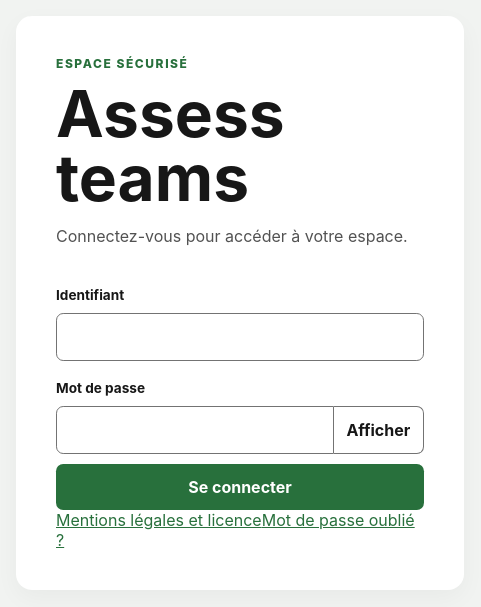
shows and hides the entered password without changing it
Type "secret-value" into the password field labelled "Mot de passe" at (195, 430), box [56, 406, 334, 454]
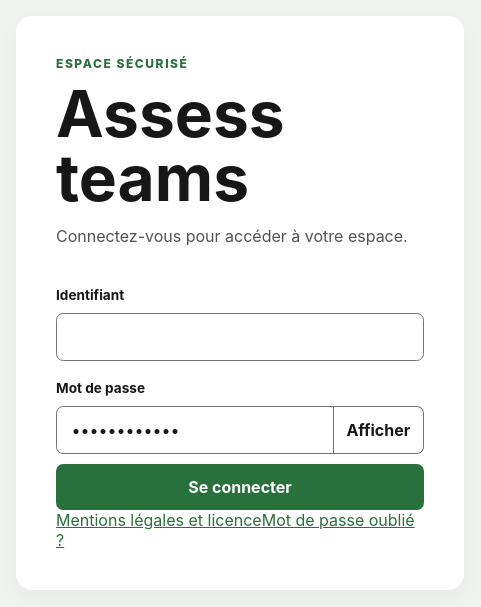
Click the button with aria-label "Afficher le mot de passe" at (379, 430), box [334, 406, 424, 454]
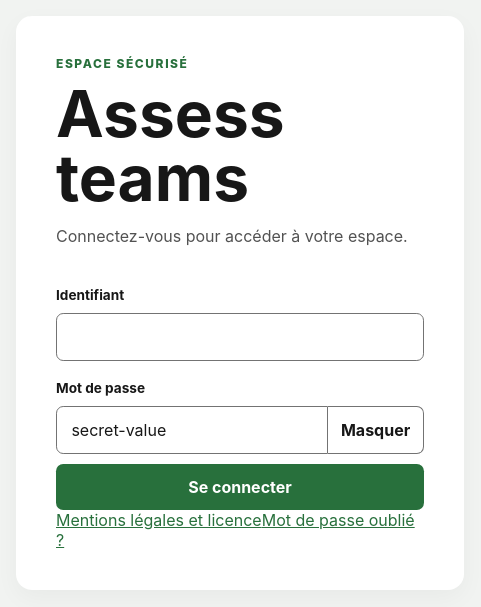
Expected: the field labelled "Mot de passe" shows its text, [56, 406, 328, 454]
Click the button with aria-label "Masquer le mot de passe" at (376, 430), box [328, 406, 424, 454]
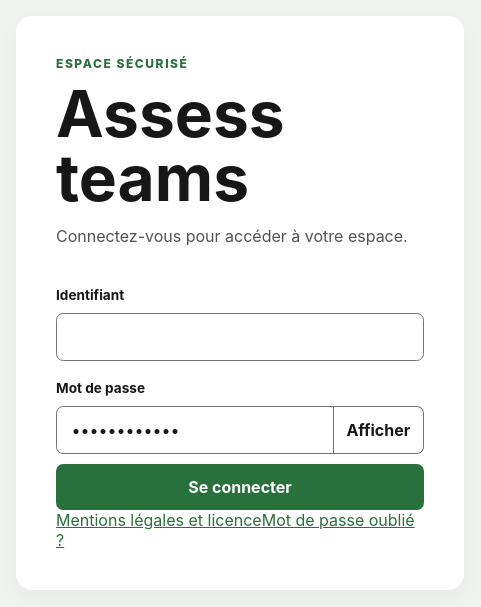
Expected: the password field labelled "Mot de passe" hides its text, [56, 406, 334, 454]
